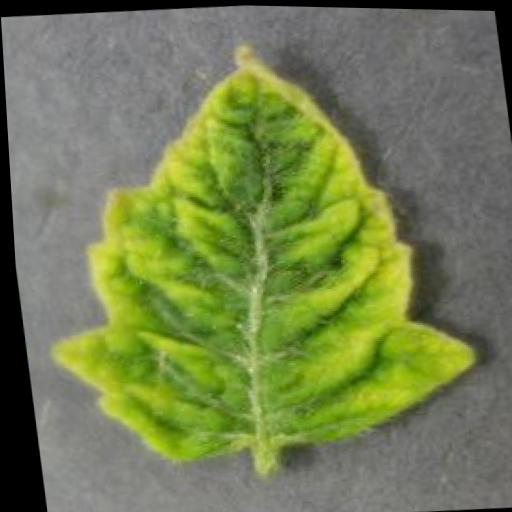Yellow Leaf Curl Virus: (12, 23, 482, 477)
